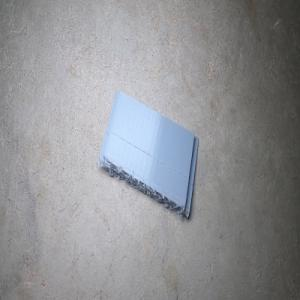PlasticPart: (96, 90, 198, 218)
